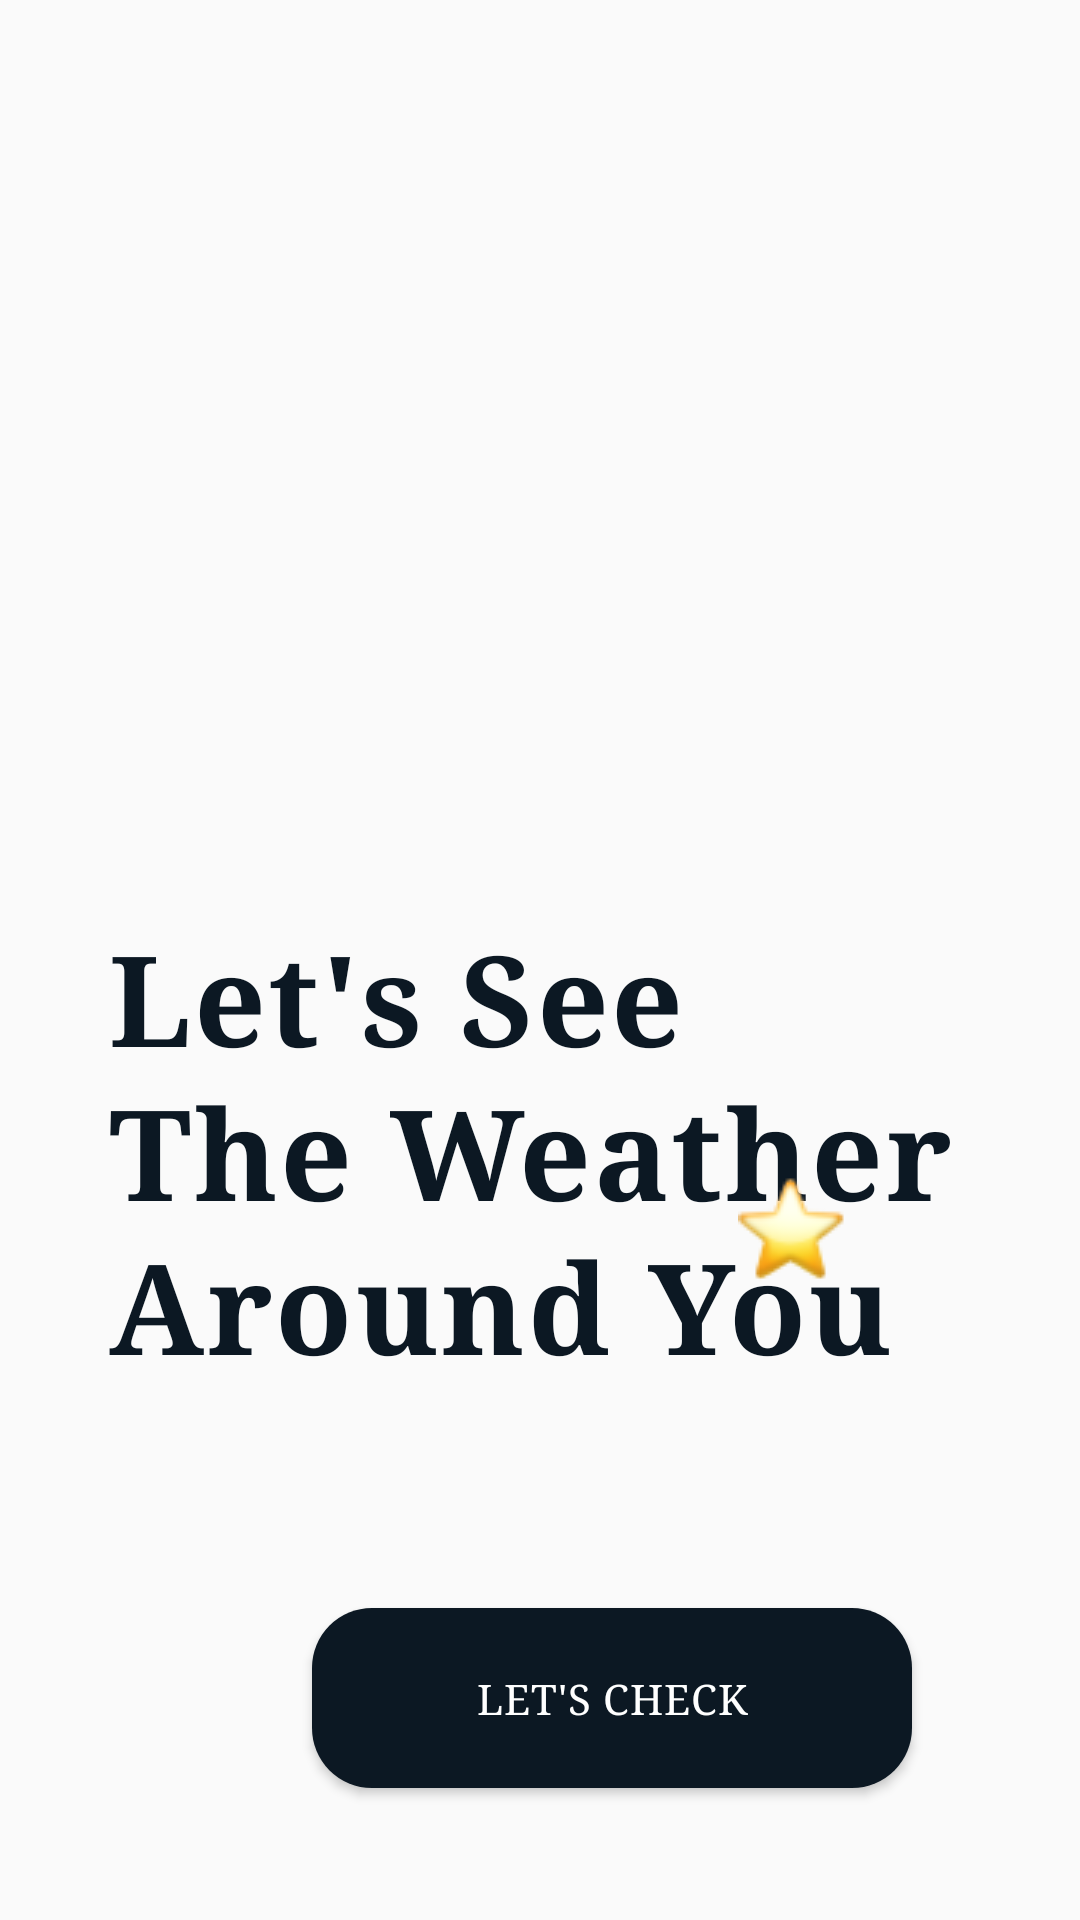

Where to tap for icons on this 1080px x 1920px app screen, as point (x, y):
goldstar: point (792, 1227)
